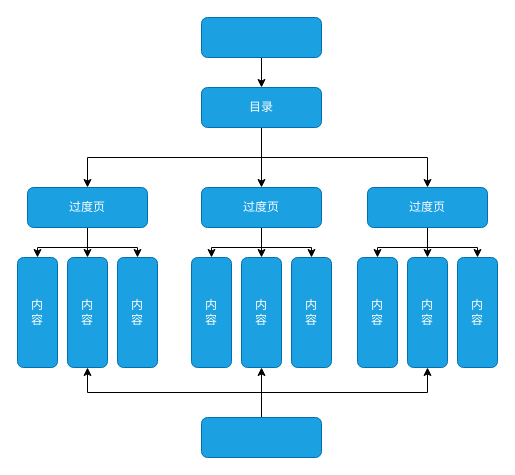
Image size: 515x475. Some labels were removed from this diagram. The centre of each missing label's shape, as x and y in pixels:
封面: (x=261, y=37)
结束页: (x=261, y=437)
